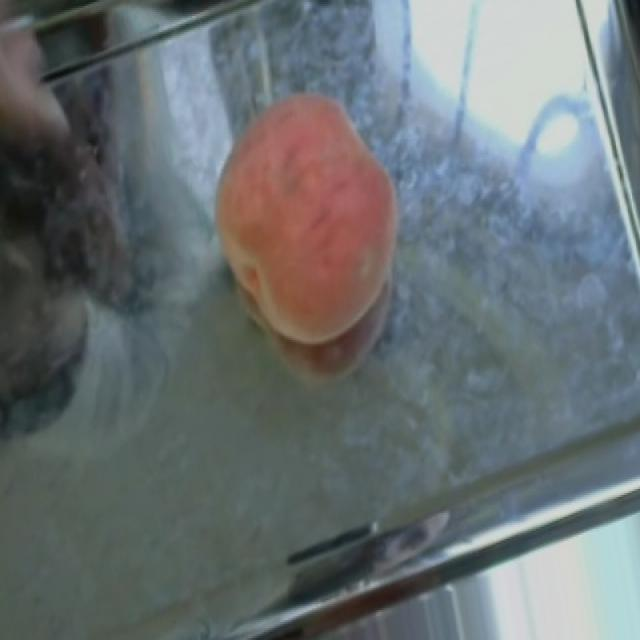Fruit: (173, 65, 430, 374), (0, 0, 72, 219)
